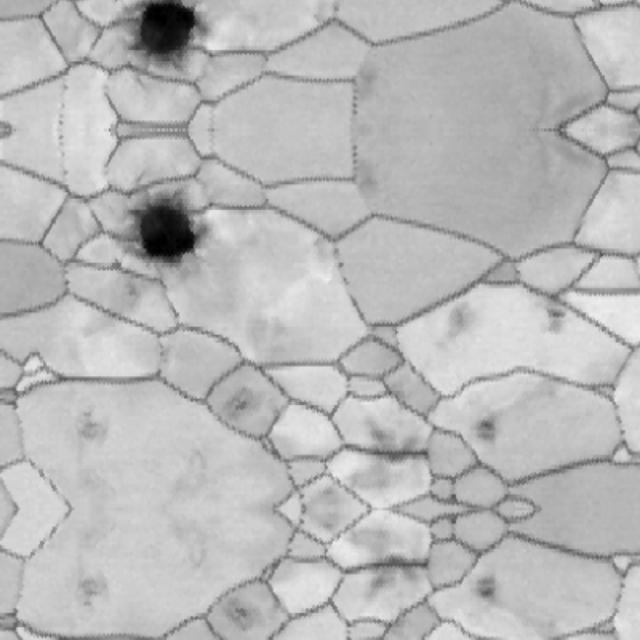good_void: (124, 189, 208, 274), (124, 0, 208, 72), (420, 294, 489, 359), (58, 402, 127, 459), (58, 561, 127, 618), (358, 413, 423, 471), (358, 549, 423, 607), (215, 381, 263, 426), (215, 594, 263, 639), (461, 408, 504, 448), (461, 572, 504, 612), (530, 297, 568, 337), (117, 281, 149, 309)
